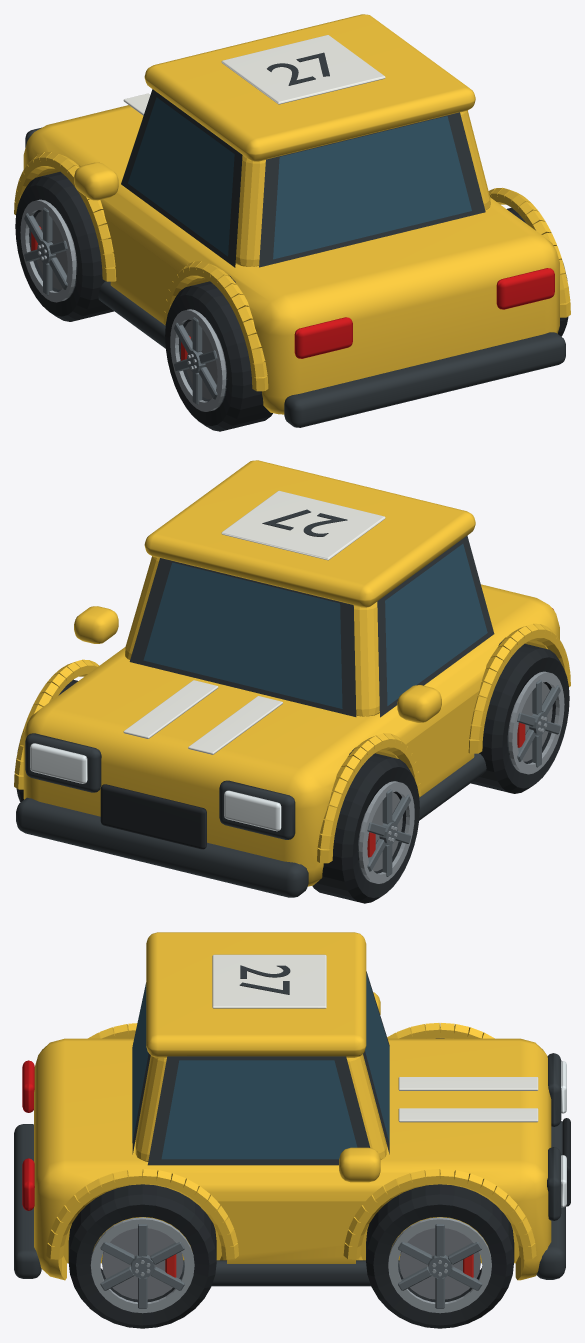
File: car_agile.glb
The picture shows the model from 3 angles, top to bottom: view 1: azimuth 30°, elevation 25°; view 2: azimuth 150°, elevation 25°; view 3: azimuth 270°, elevation 25°; orthographic projection.
Visible parts, largest first — view 1: Body.001, WheelMesh.006, WheelMesh.004; view 2: Body.001, WheelMesh.004, WheelMesh.006; view 3: Body.001, WheelMesh.007, WheelMesh.005.
Part boxes in pixels (x1,y1,x2,y2): Body.001: (14,14,570,427); WheelMesh.006: (165,276,272,431); WheelMesh.004: (15,171,113,321); Body.001: (14,460,570,897); WheelMesh.004: (312,748,419,903); WheelMesh.006: (471,639,569,793); Body.001: (14,932,570,1286); WheelMesh.007: (68,1184,216,1328); WheelMesh.005: (366,1184,514,1328).
Size of the model in its own units: 2.64 by 1.94 by 3.61.
